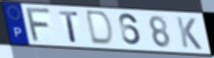6: (118, 12, 143, 48)
8: (148, 15, 172, 49)
D: (86, 9, 116, 47)
F: (25, 8, 54, 44)
K: (175, 16, 204, 51)
T: (57, 10, 80, 44)
